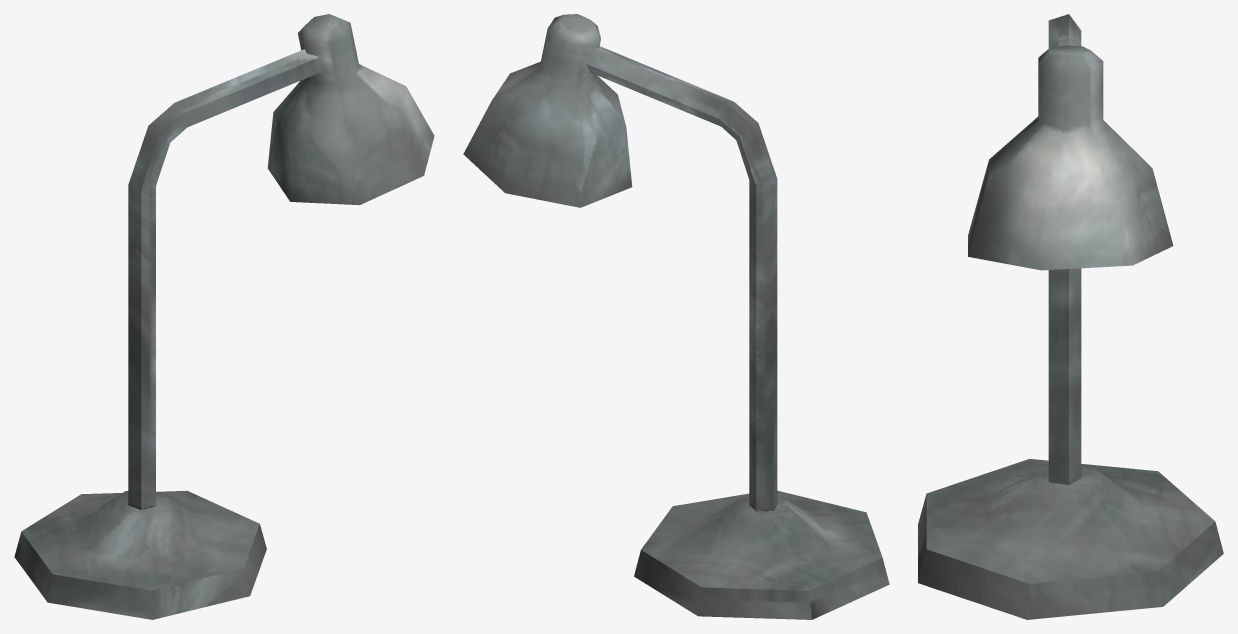
The model's file is Lamp-col.glb.
3 renders of one model, left to right at view 1: azimuth 30°, elevation 25°; view 2: azimuth 150°, elevation 25°; view 3: azimuth 270°, elevation 25°, orthographic. The views are drawn at different scales.
Visible parts, largest first — view 1: Lamp-col; view 2: Lamp-col; view 3: Lamp-col.
Boxes of the visible parts, x1,y1,x2,y2 form: Lamp-col: (14,14,434,619); Lamp-col: (463,14,889,619); Lamp-col: (918,14,1223,619).
Bounding box in the file's own units: 3.49 × 4.24 × 1.9.
Materials: 1 (1 with a texture image).
